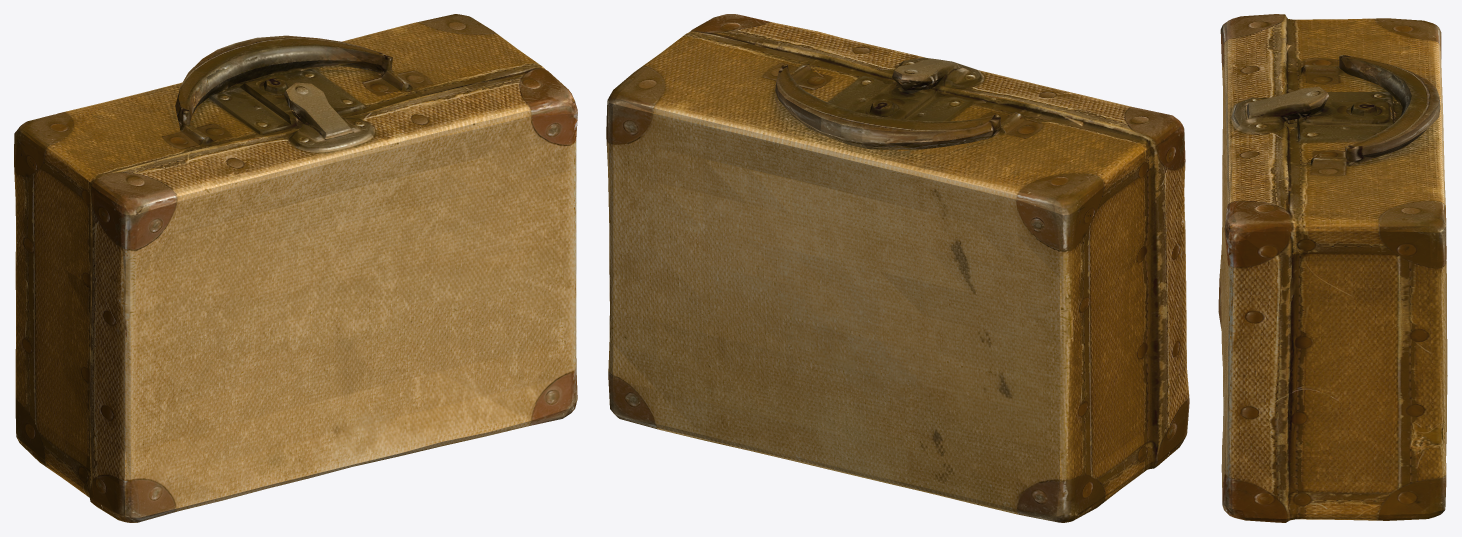
Rendered from vintage.obj.
The picture shows the model from 3 angles, left to right: view 1: azimuth 30°, elevation 25°; view 2: azimuth 150°, elevation 25°; view 3: azimuth 270°, elevation 25°; orthographic projection. The views are drawn at different scales.
Size of the model in its own units: 0.55 by 0.4 by 0.25.
